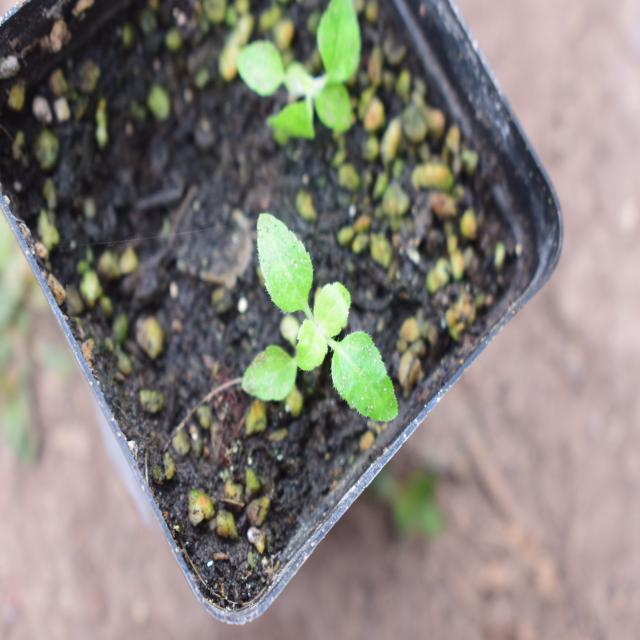billygoat_weed: (227, 198, 395, 440)
